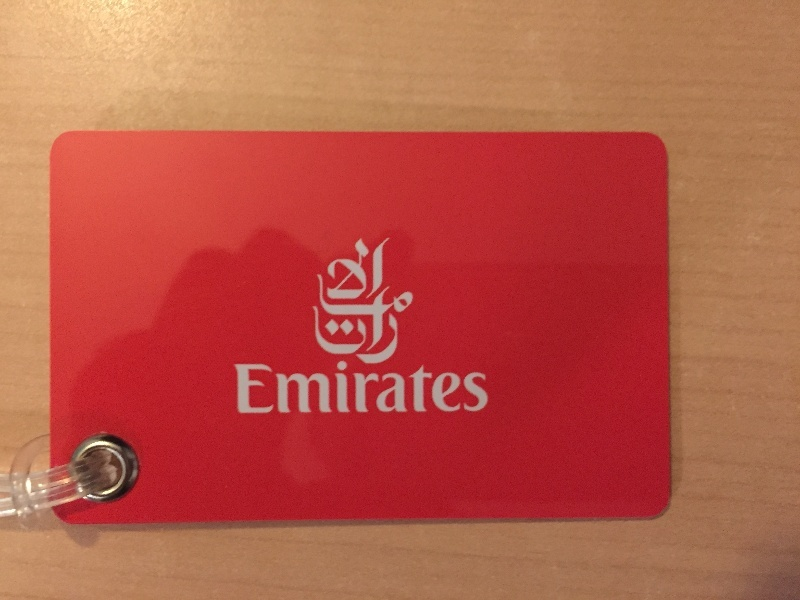text: (321, 236, 336, 365), (337, 236, 352, 365), (353, 236, 368, 365), (369, 236, 384, 365), (385, 236, 400, 365), (401, 236, 413, 365), (313, 236, 320, 365), (241, 360, 256, 414), (257, 360, 272, 414), (273, 360, 288, 414), (289, 360, 304, 414), (305, 360, 320, 414), (321, 360, 336, 414), (337, 360, 352, 414), (353, 360, 368, 414), (369, 360, 384, 414), (385, 360, 400, 414), (401, 360, 416, 414), (417, 360, 432, 414), (433, 360, 448, 414), (449, 360, 464, 414), (465, 360, 480, 414), (481, 360, 489, 414), (234, 360, 240, 414)
